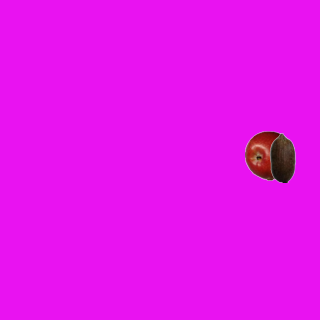Apple Braeburn: (244, 130, 294, 180)
Nut Pecan: (257, 132, 307, 182)
